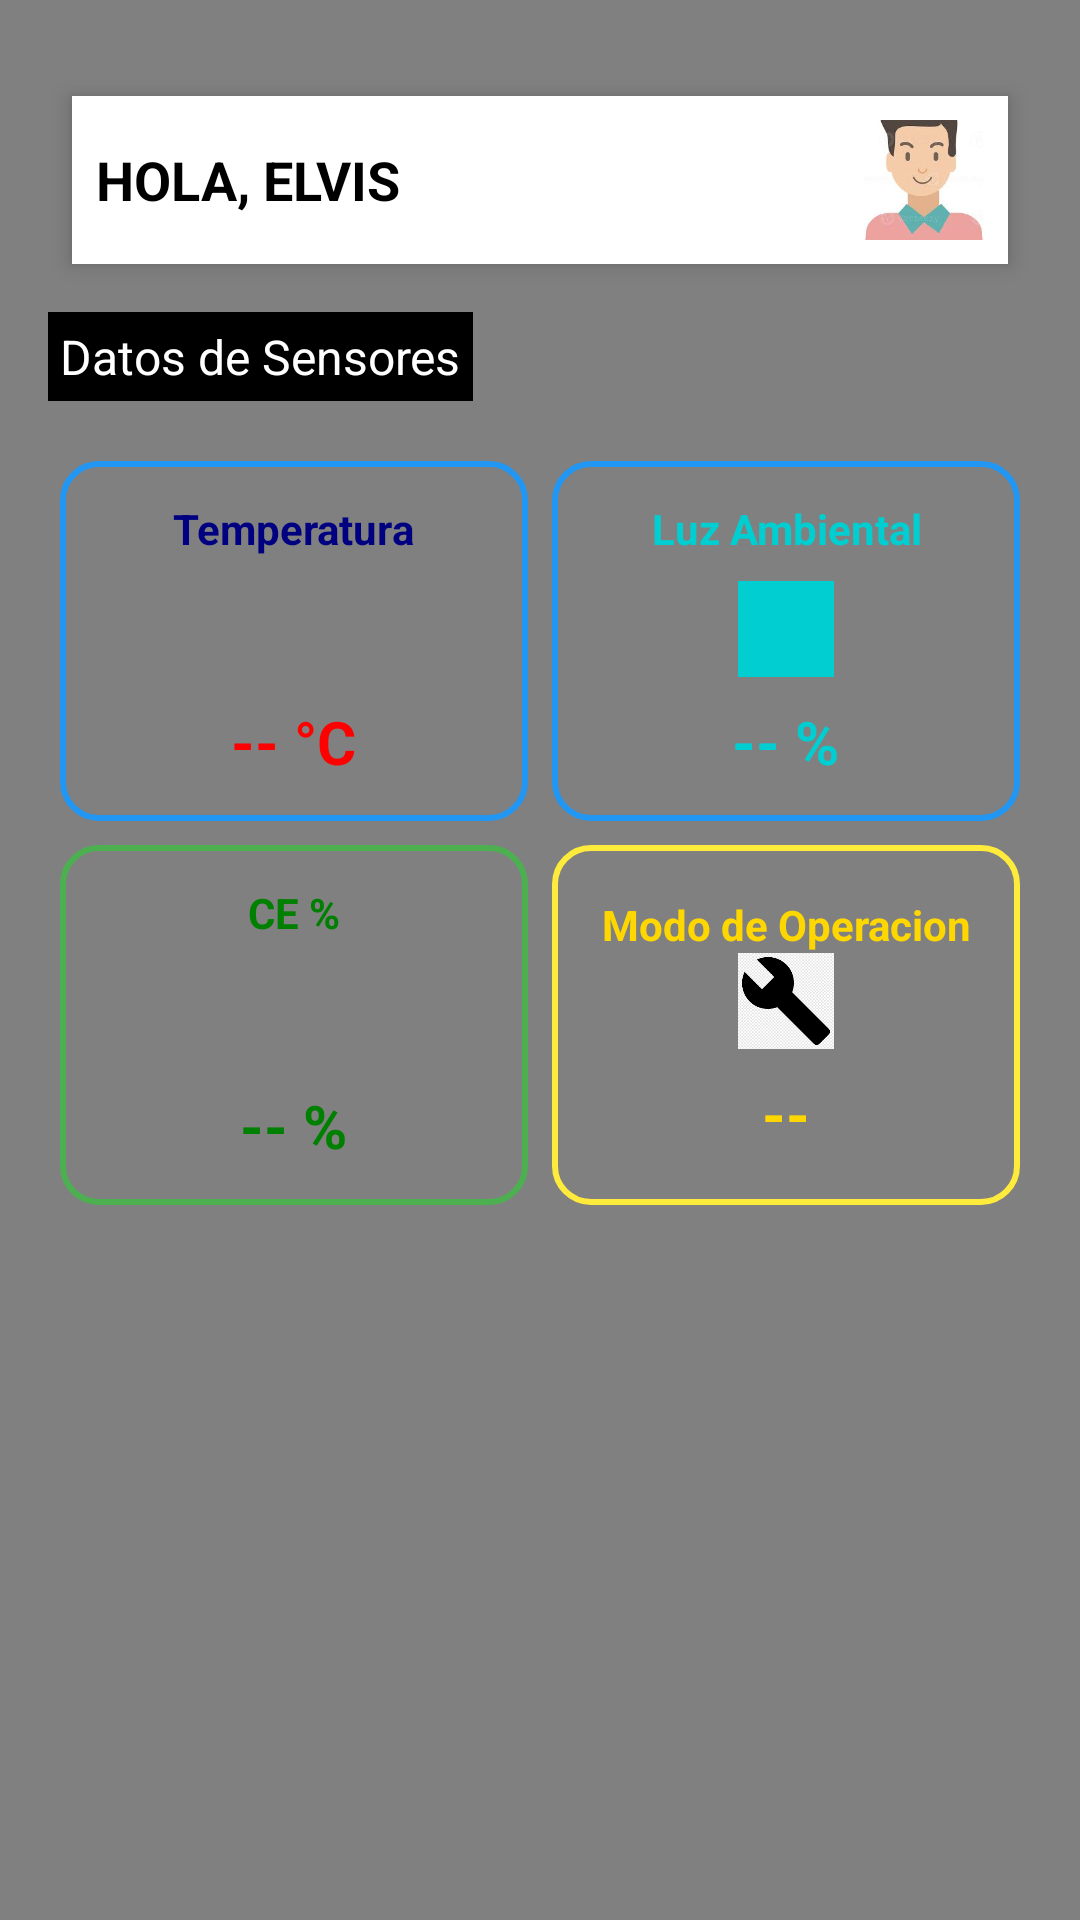

Screen size 1080x1920. Icon name, then its box in pixels as (x1, y1, x2, y2):
build: (738, 953, 834, 1049)
profile pic: (865, 120, 983, 240)
